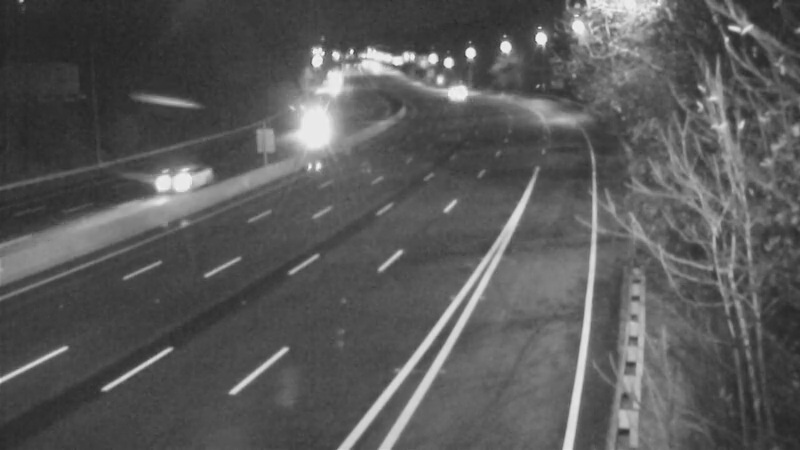vehicle: (139, 137, 219, 217), (425, 65, 475, 115), (288, 101, 338, 151), (309, 54, 359, 104)
